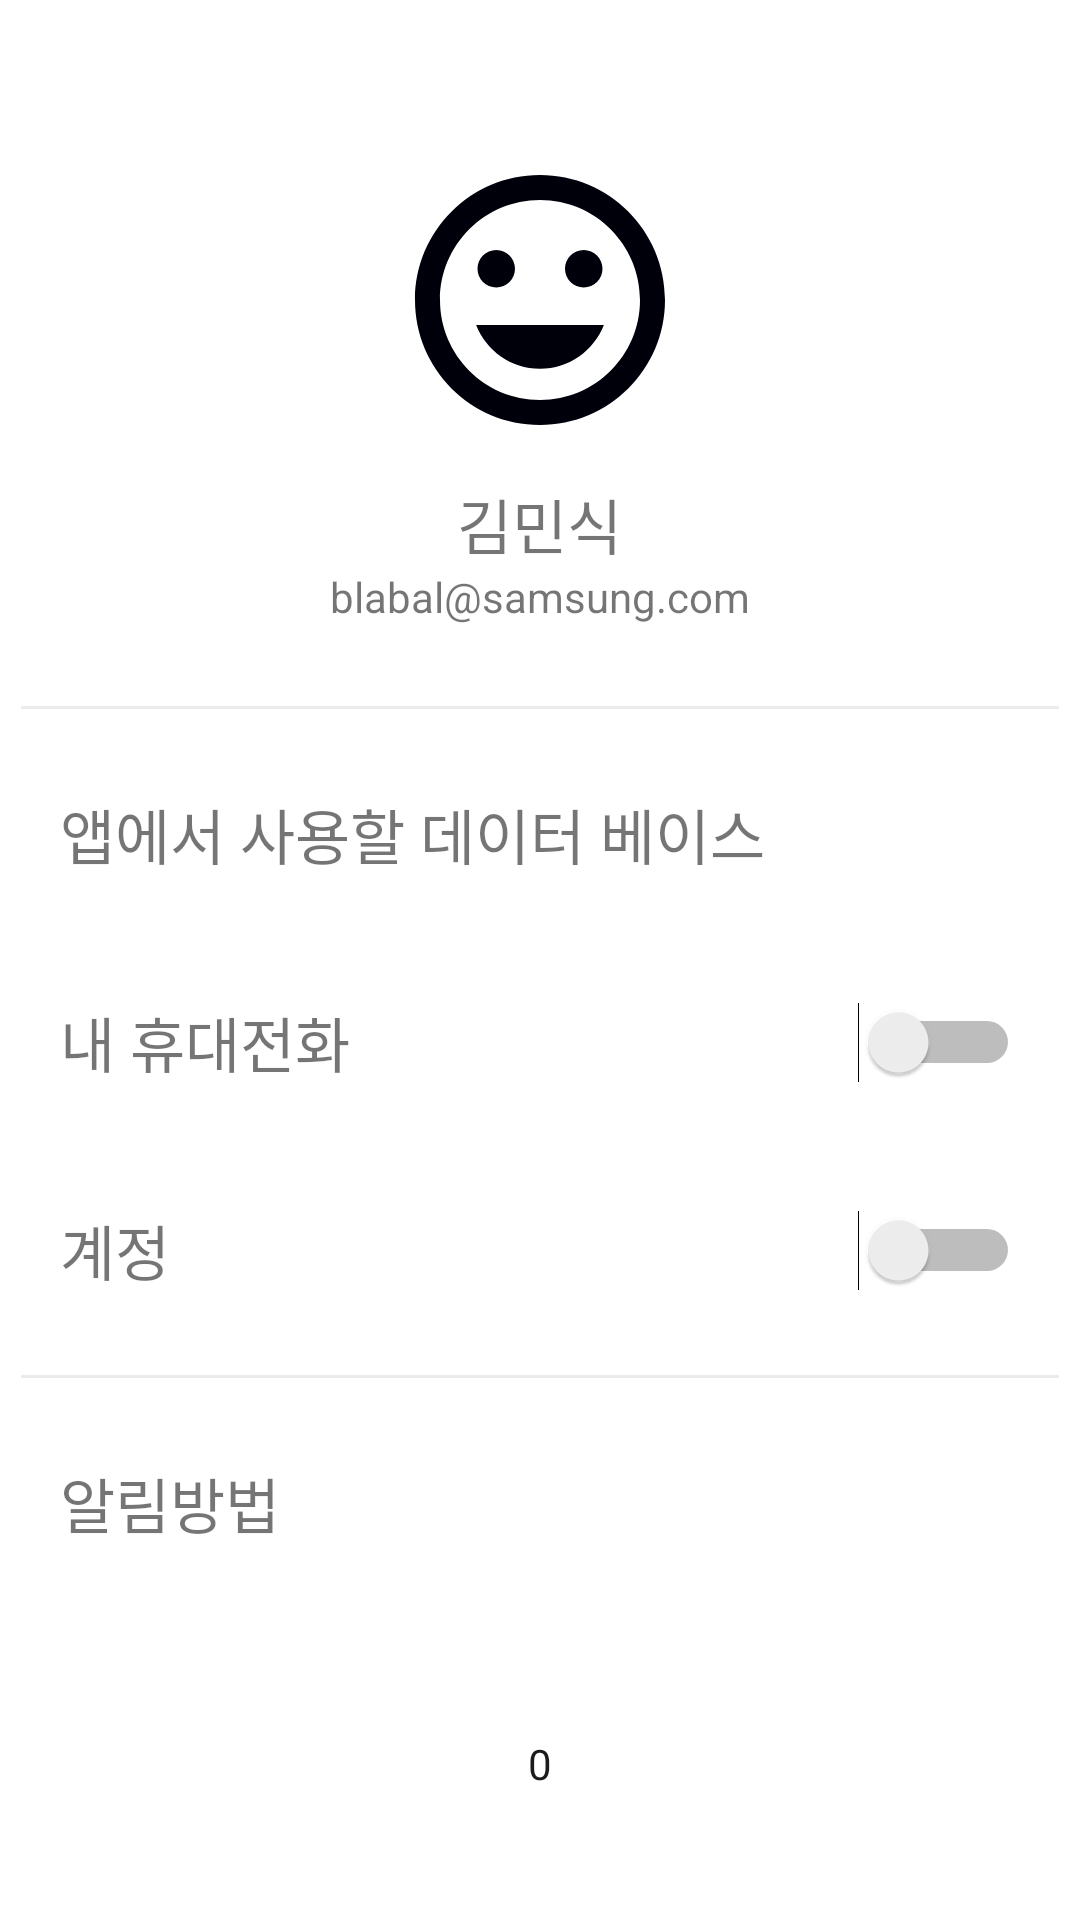

Icons on this 1080px×1920px Android screen, each with its box as (x1, y1, x2, y2):
tag faces: (415, 175, 665, 425)
